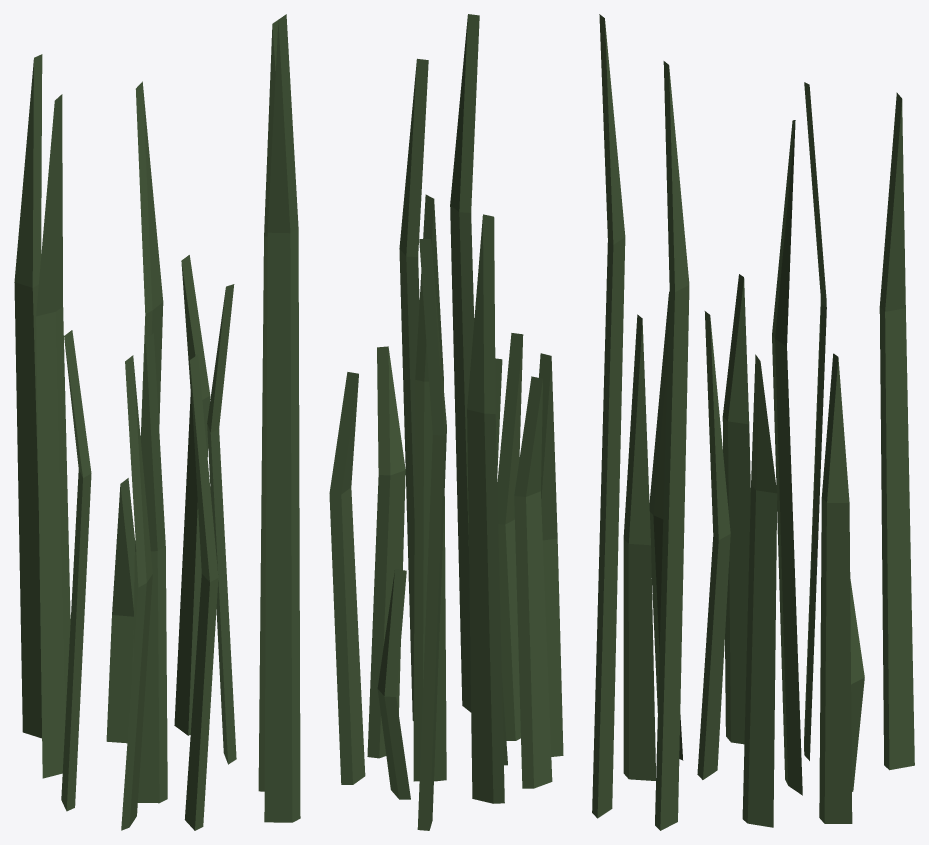
Rendered from Grass_2.gltf.
The picture shows the model from 3 angles, left to right: view 1: azimuth 30°, elevation 25°; view 2: azimuth 150°, elevation 25°; view 3: azimuth 270°, elevation 25°; orthographic projection. The views are drawn at different scales.
Parts seen in each view (by area): view 1: Grass_2; view 2: Grass_2; view 3: Grass_2.
Part boxes in pixels (left/top/right/bottom): Grass_2: left=14, top=14, right=300, bottom=830; Grass_2: left=329, top=14, right=563, bottom=830; Grass_2: left=592, top=14, right=914, bottom=830.
Size of the model in its own units: 0.3162 by 1.2 by 0.4417.
